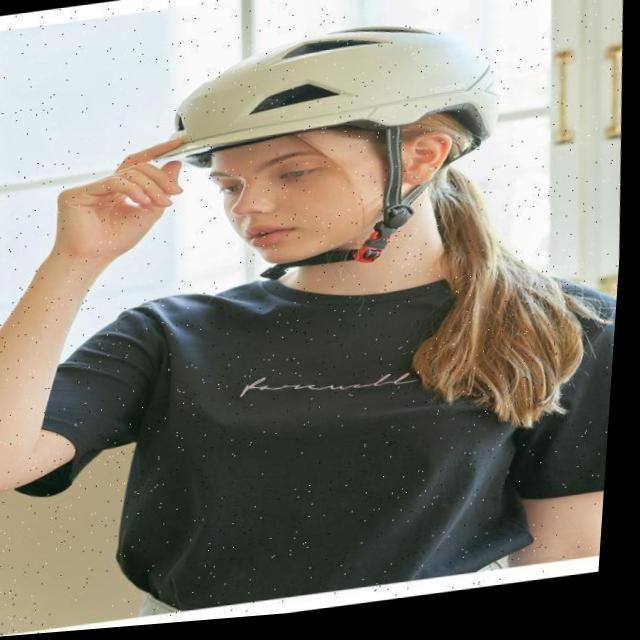helmet: (140, 13, 513, 302)
